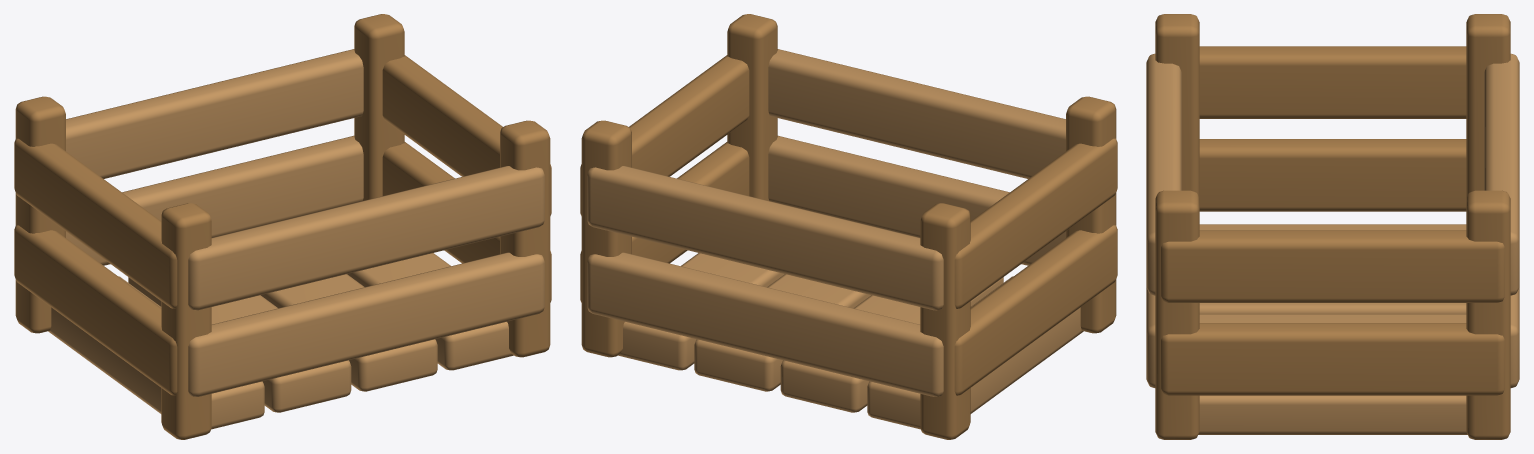
The model's file is crate.glb.
3 renders of one model, left to right at view 1: azimuth 30°, elevation 25°; view 2: azimuth 150°, elevation 25°; view 3: azimuth 270°, elevation 25°, orthographic. The views are drawn at different scales.
Parts seen in each view (by area): view 1: crate_FARM_VERTEX_COLOR; view 2: crate_FARM_VERTEX_COLOR; view 3: crate_FARM_VERTEX_COLOR.
Boxes of the visible parts, box(x1,y1,x2,y2) form: crate_FARM_VERTEX_COLOR: box(14, 14, 551, 439); crate_FARM_VERTEX_COLOR: box(580, 14, 1117, 439); crate_FARM_VERTEX_COLOR: box(1146, 14, 1519, 439).
Bounding box in the file's own units: 1.06 × 0.6 × 0.84.
